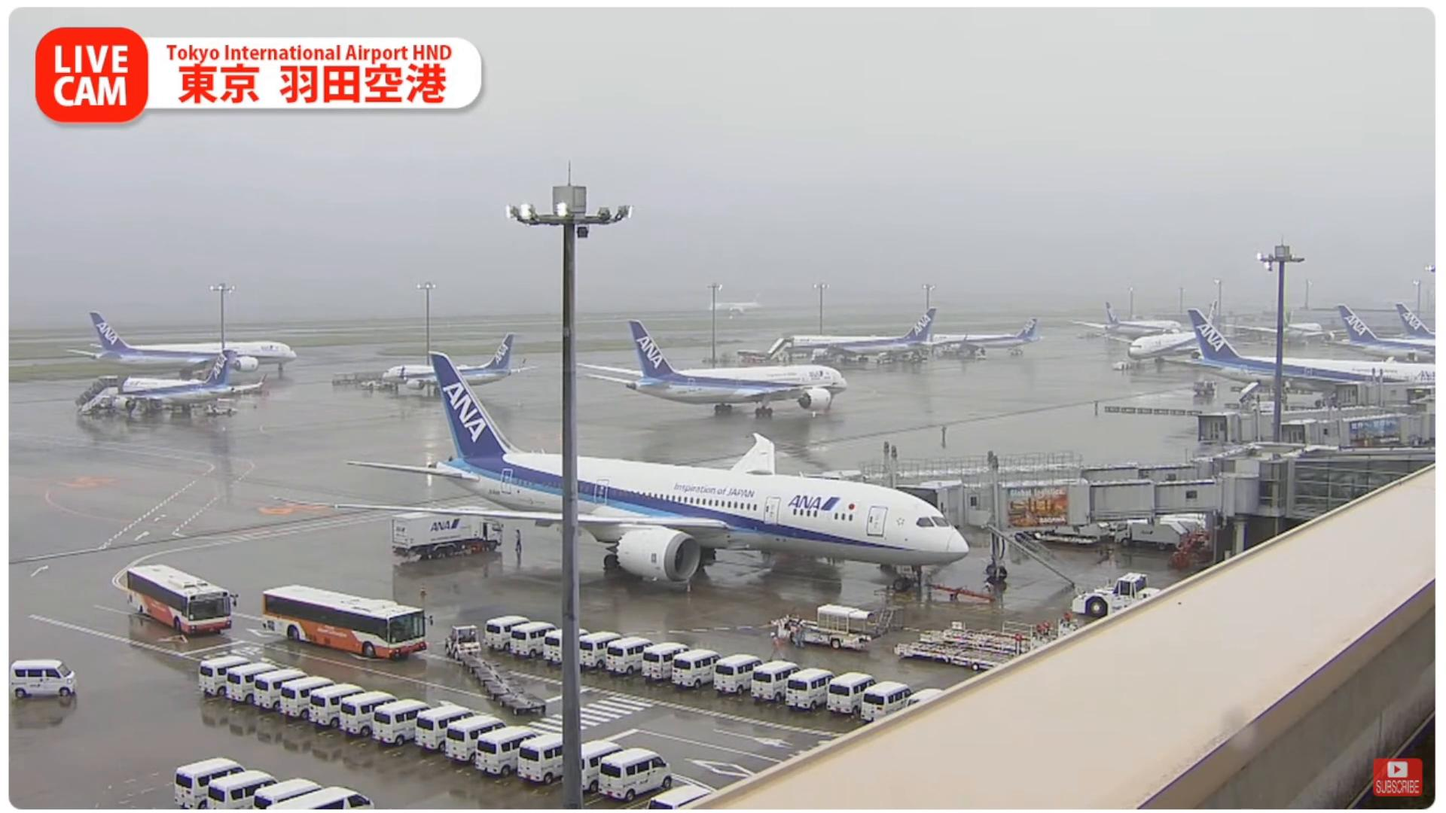APS: (1073, 571, 1174, 617)
Aerobridge: (821, 455, 1210, 515), (990, 474, 1182, 535)
Airplane: (270, 351, 970, 592)
Catering: (390, 512, 502, 559)
Dolly: (462, 652, 546, 712)
JCPL: (893, 628, 1049, 669), (1000, 611, 1079, 642)
Skyloader: (770, 604, 881, 651)
Tractor: (444, 624, 483, 660)
Window: (1292, 458, 1433, 516)
